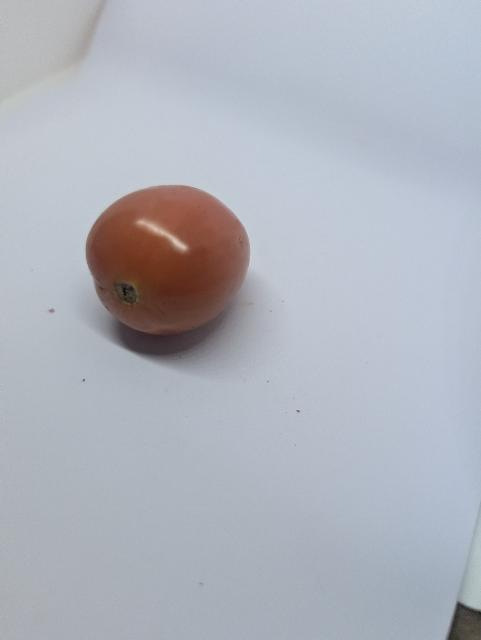red: (83, 182, 253, 338)
